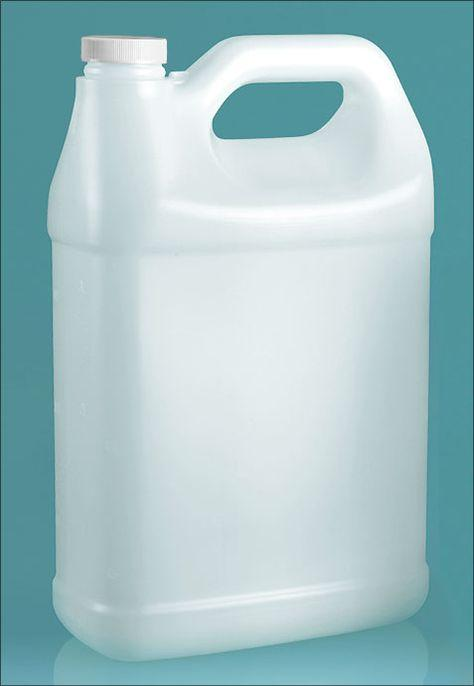HDPE: (0, 21, 474, 686)
